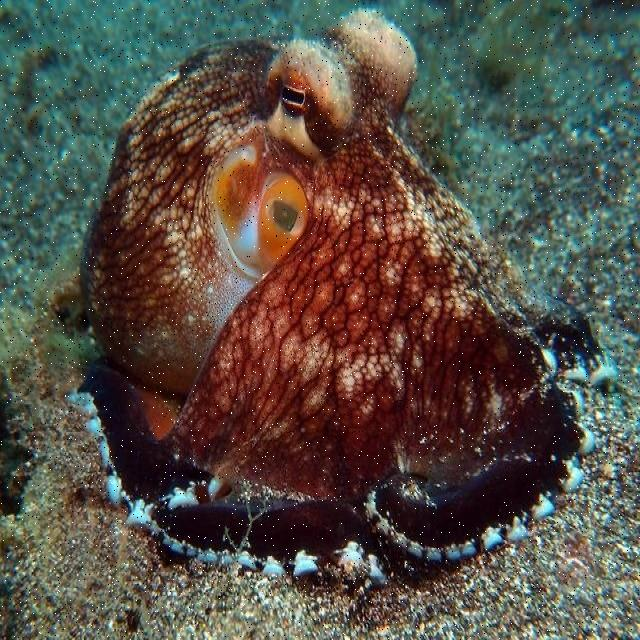reefs: (48, 8, 618, 585)
